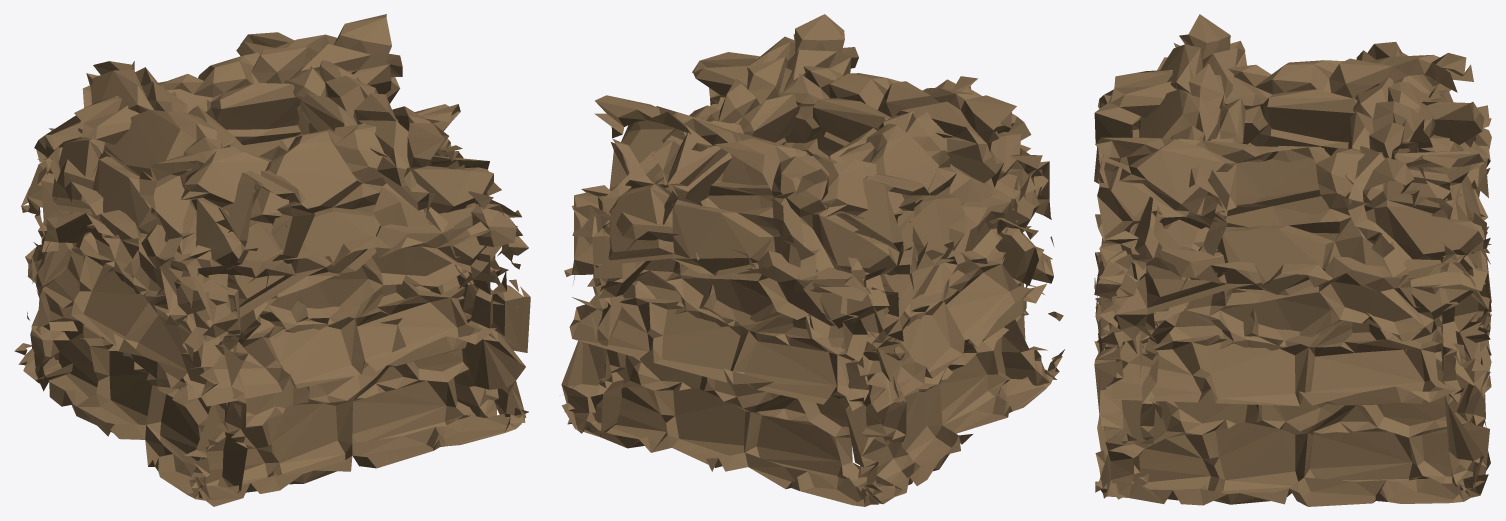
File: Rock_Outer.glb
3 views of the same model, side by side, from view 1: azimuth 30°, elevation 25°; view 2: azimuth 150°, elevation 25°; view 3: azimuth 270°, elevation 25° (orthographic). The views are drawn at different scales.
Visible parts, largest first — view 1: Rock_Outer; view 2: Rock_Outer; view 3: Rock_Outer.
Part boxes in pixels (box(x1,y1,x2,y2)): Rock_Outer: box(14, 14, 530, 506); Rock_Outer: box(561, 14, 1064, 506); Rock_Outer: box(1094, 14, 1491, 506).
Bounding box in the file's own units: 136 × 122 × 134.
